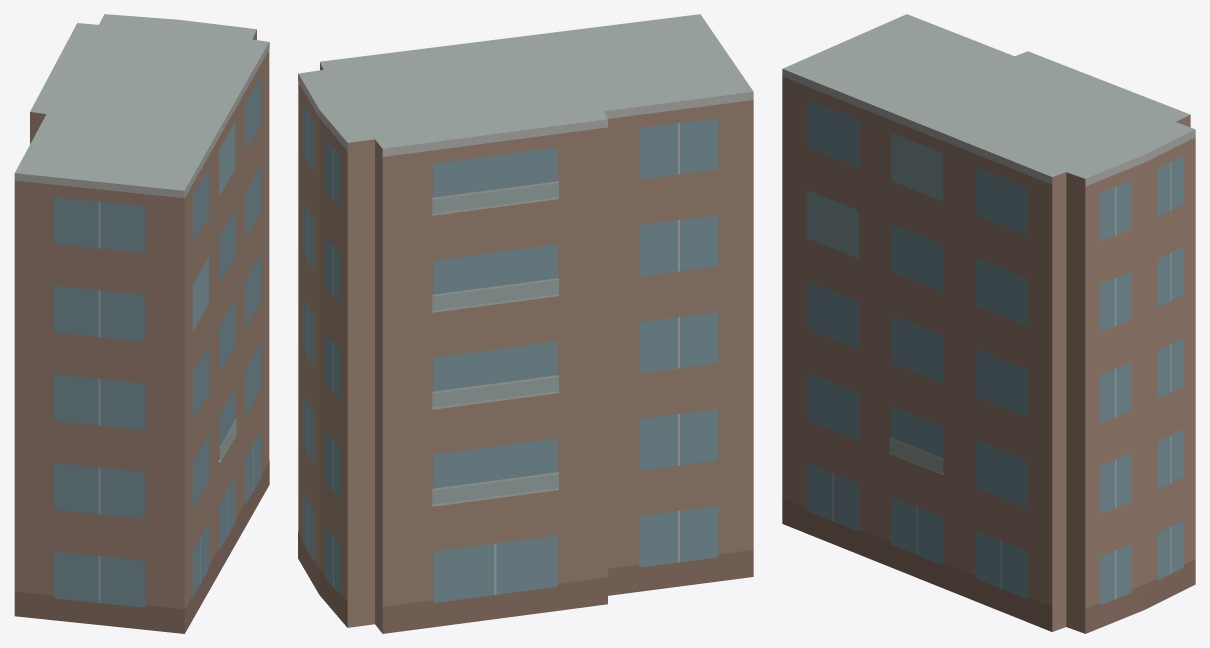
Rendered from survey-upis-33023143.glb.
3 renders of one model, left to right at view 1: azimuth 30°, elevation 25°; view 2: azimuth 150°, elevation 25°; view 3: azimuth 270°, elevation 25°, orthographic. The views are drawn at different scales.
Visible parts, largest first — view 1: survey-upis-33023143.tmp; view 2: survey-upis-33023143.tmp; view 3: survey-upis-33023143.tmp.
Part boxes in pixels (x1,y1,x2,y2): survey-upis-33023143.tmp: [14, 14, 269, 633]; survey-upis-33023143.tmp: [298, 14, 753, 633]; survey-upis-33023143.tmp: [782, 14, 1195, 633].
Size of the model in its own units: 11.28 by 14.5 by 11.95.
